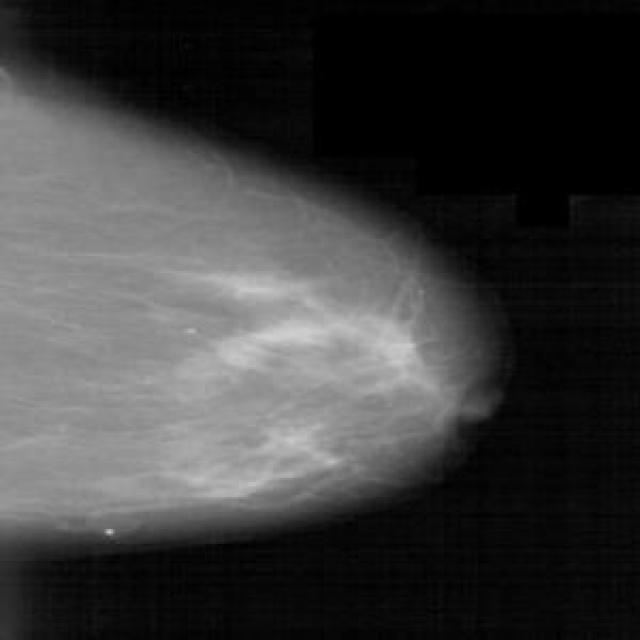tumor: (160, 257, 431, 505)
